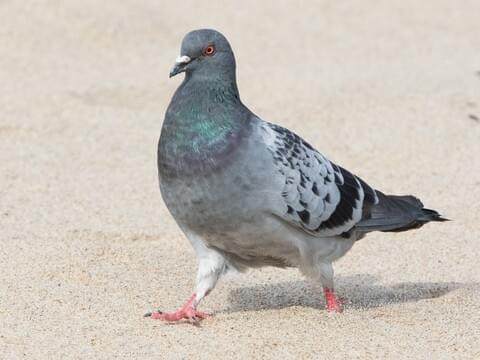Flying Rat: (142, 26, 444, 327)
